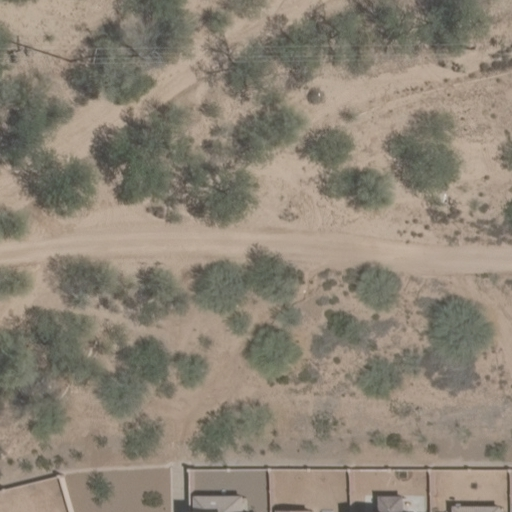DT: (70, 51, 104, 67)
